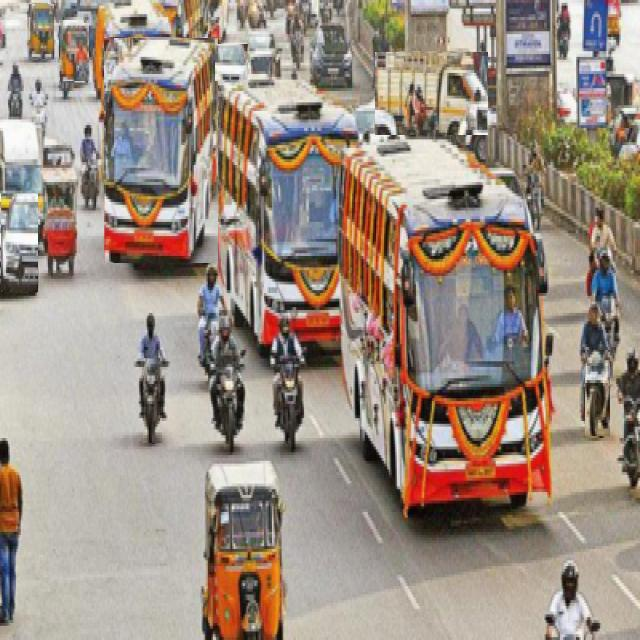autorickshaw: (202, 462, 282, 639), (59, 20, 89, 81), (29, 5, 54, 59)
bus: (341, 142, 551, 514), (219, 82, 358, 348), (104, 38, 218, 263)
car: (0, 194, 38, 292), (311, 27, 352, 86), (215, 45, 248, 81)
motorcycle: (210, 316, 245, 450), (585, 351, 610, 436), (279, 356, 299, 450), (143, 358, 161, 443), (526, 147, 544, 230)
truck: (375, 53, 488, 135)
